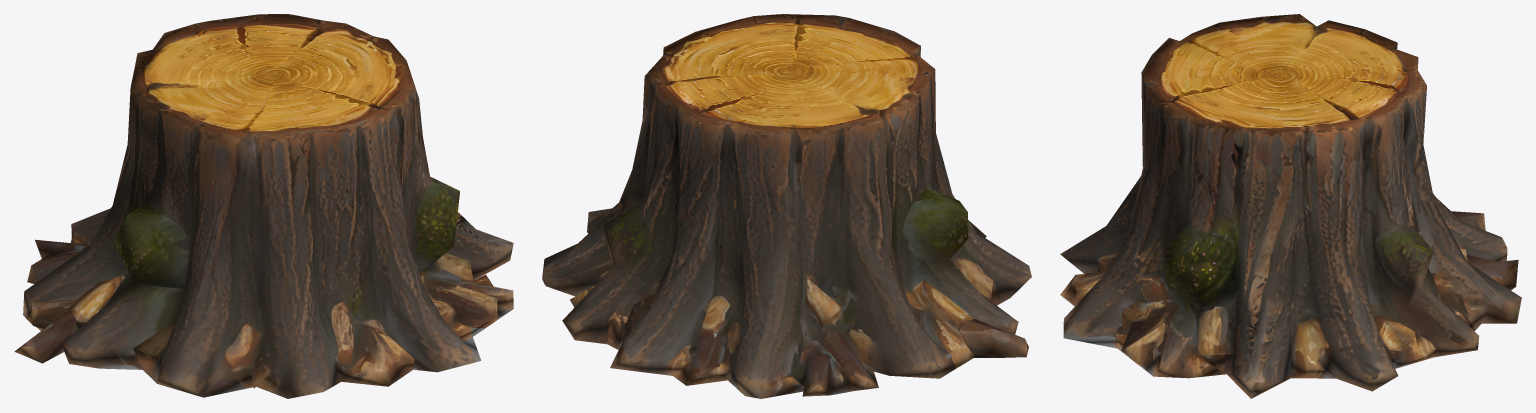
Rendered from stump.glb.
3 renders of one model, left to right at view 1: azimuth 30°, elevation 25°; view 2: azimuth 150°, elevation 25°; view 3: azimuth 270°, elevation 25°, orthographic. The views are drawn at different scales.
Parts seen in each view (by area): view 1: tripo_node_ed0f84f8-5cc5-4d67-a1c4-3fce61ce2257; view 2: tripo_node_ed0f84f8-5cc5-4d67-a1c4-3fce61ce2257; view 3: tripo_node_ed0f84f8-5cc5-4d67-a1c4-3fce61ce2257.
Part boxes in pixels (box(x1,y1,x2,y2)): tripo_node_ed0f84f8-5cc5-4d67-a1c4-3fce61ce2257: box(14, 14, 513, 398); tripo_node_ed0f84f8-5cc5-4d67-a1c4-3fce61ce2257: box(542, 14, 1031, 398); tripo_node_ed0f84f8-5cc5-4d67-a1c4-3fce61ce2257: box(1060, 14, 1521, 398).
Bounding box in the file's own units: 1.01 × 0.4696 × 0.8847.
1 material, 1 textured.
